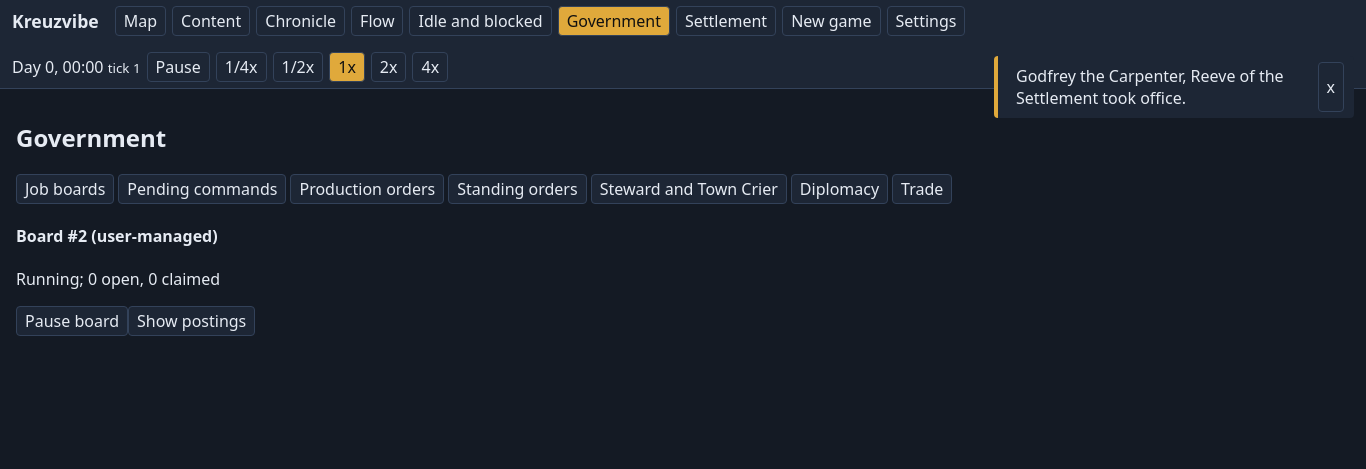
Test case: ProductionTab › shows field errors for an incomplete order
The image size is (1366, 469).
What coordinates should you click on to do the following:
click the tab "Production orders"
I would click on:
 (367, 189)
Its box is [290,174,444,204].
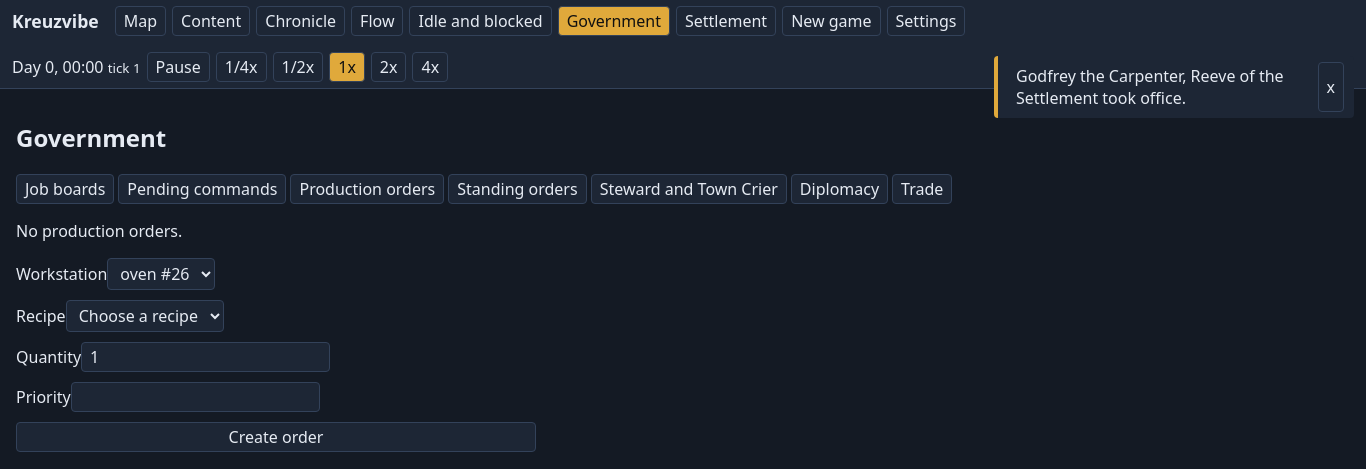
What coordinates should you click on to do the following:
click the button "Create order"
I would click on:
 (276, 437)
Its box is [16,422,536,452].
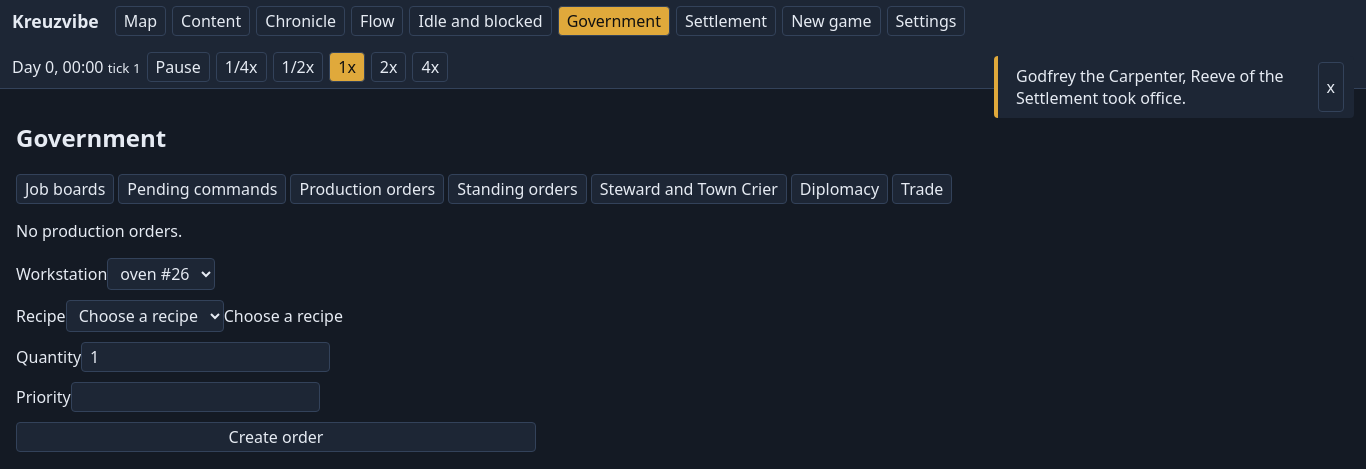
Expected: the message "Choose a recipe" is shown, [224,305,343,327]
